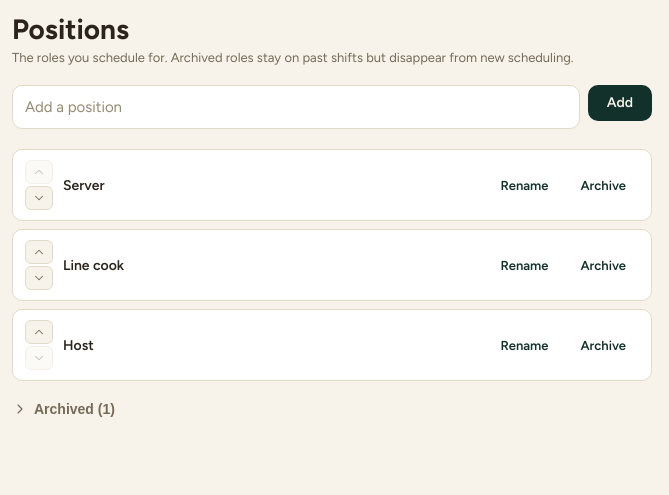
Test: PositionsView › collapses the archived section by default
Check: the text "Busser" is not shown
Click the button "Archived (1)" at (63, 409), box [12,401,115,417]
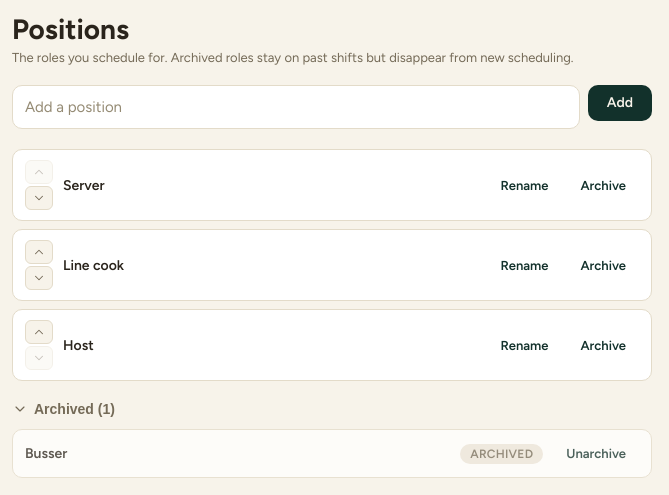
Check: the text "Busser" is shown, box [25,445,67,462]
